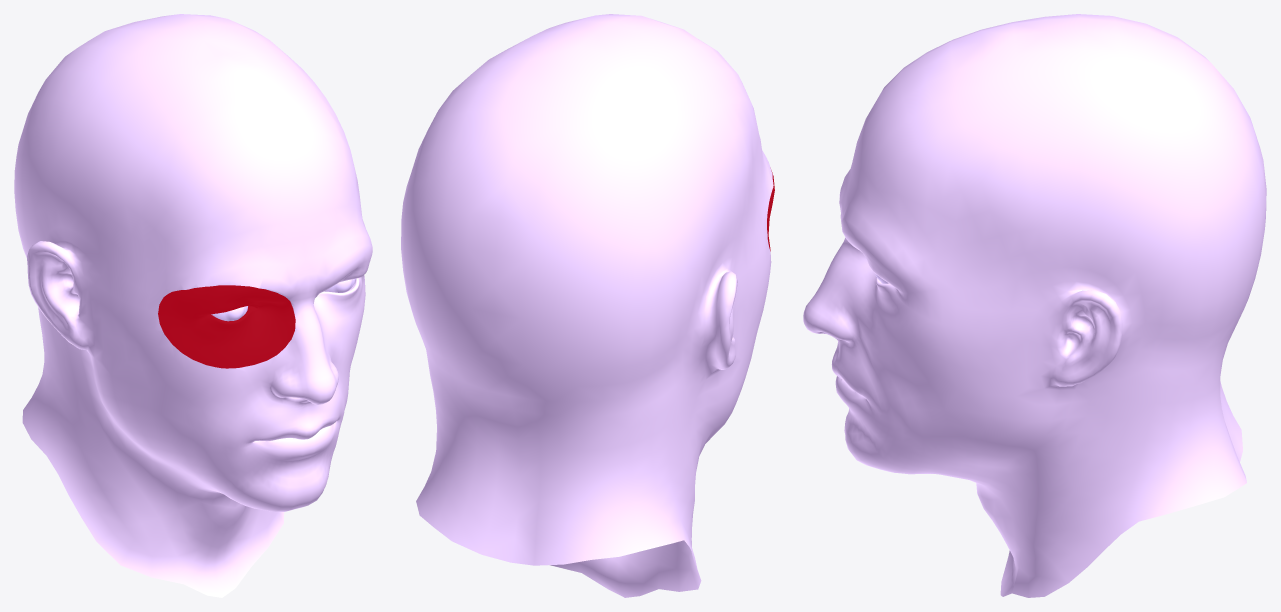
The model's file is Cluster.glb.
The picture shows the model from 3 angles, left to right: view 1: azimuth 30°, elevation 25°; view 2: azimuth 150°, elevation 25°; view 3: azimuth 270°, elevation 25°; orthographic projection. The views are drawn at different scales.
Visible parts, largest first — view 1: man_body_0014 uv map_Material.004_0.001, man_body_0014 uv map; view 2: man_body_0014 uv map_Material.004_0.001; view 3: man_body_0014 uv map_Material.004_0.001.
Boxes of the visible parts, <box> form: man_body_0014 uv map_Material.004_0.001: <box>14,14,372,597</box>; man_body_0014 uv map: <box>158,285,295,368</box>; man_body_0014 uv map_Material.004_0.001: <box>401,14,773,597</box>; man_body_0014 uv map_Material.004_0.001: <box>803,14,1266,597</box>.
Size of the model in its own units: 0.1766 by 0.3089 by 0.2292.
